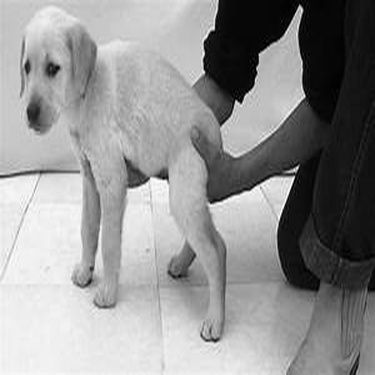dog: (4, 1, 239, 351)
